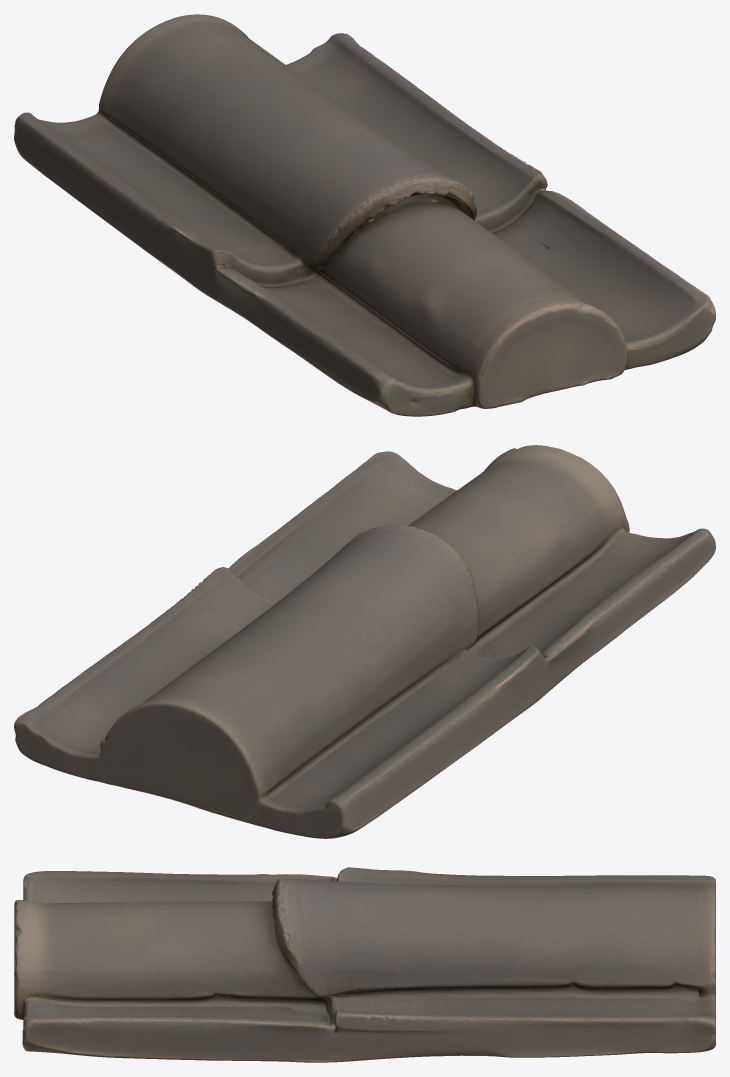
File: GreyClayTile_Hunyuan50k.glb
3 renders of one model, top to bottom at view 1: azimuth 30°, elevation 25°; view 2: azimuth 150°, elevation 25°; view 3: azimuth 270°, elevation 25°, orthographic. The views are drawn at different scales.
Visible parts, largest first — view 1: node_0; view 2: node_0; view 3: node_0.
Boxes of the visible parts, x1,y1,x2,y2 form: node_0: [14, 14, 715, 416]; node_0: [14, 445, 715, 838]; node_0: [14, 867, 715, 1062].
Size of the model in its own units: 0.5522 by 0.174 by 1.07.
1 material, 1 textured.
